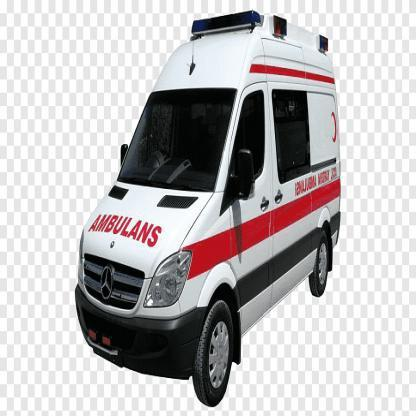Ambulance - v1 Ambulance last generate: (74, 13, 342, 405)
